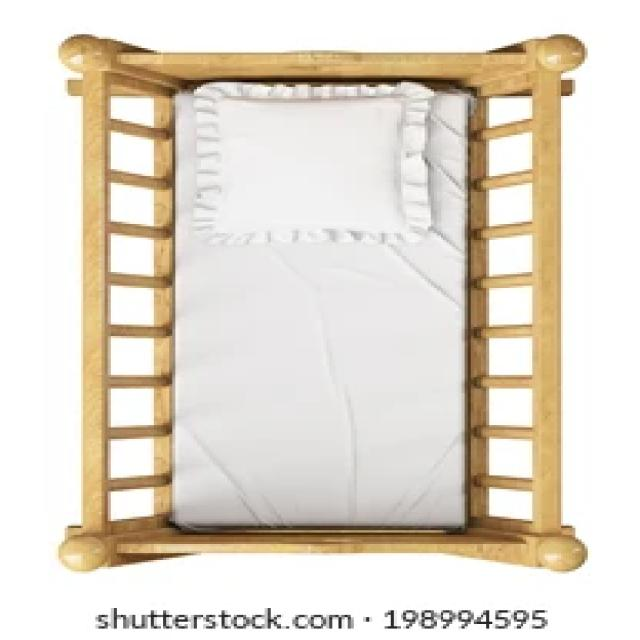crib: (96, 56, 562, 550)
